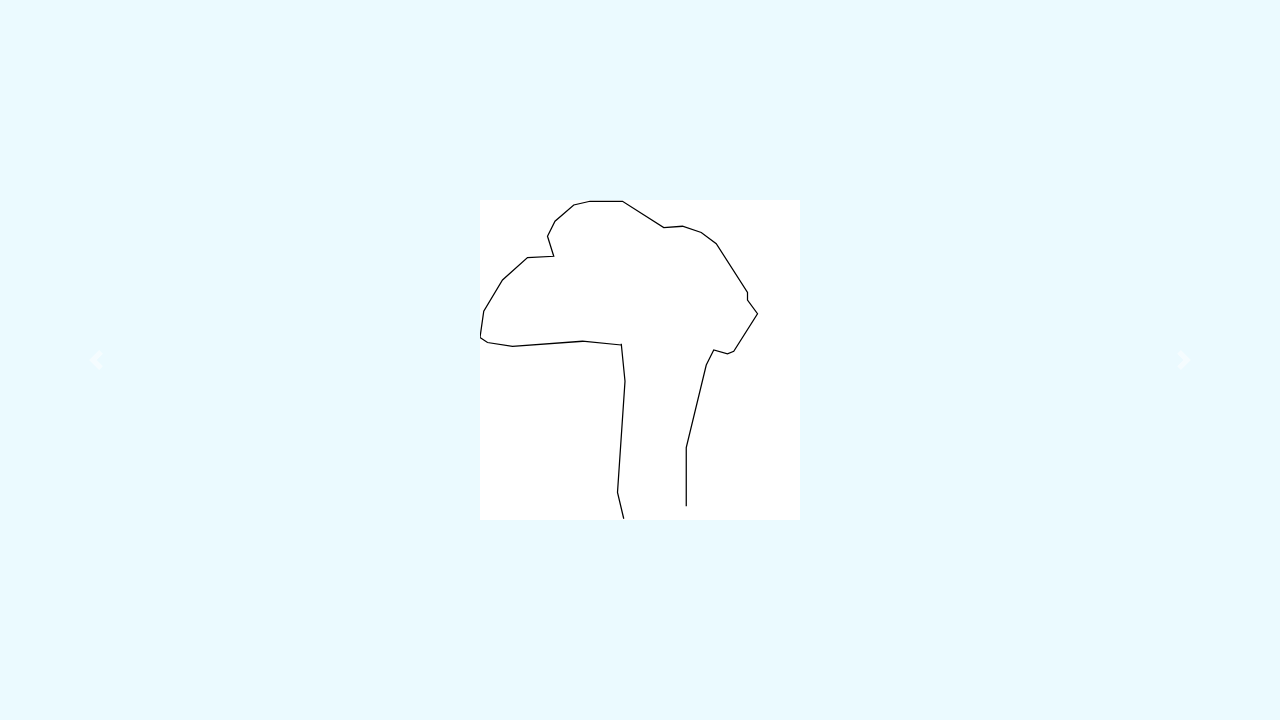tree: (468, 189, 760, 528)
